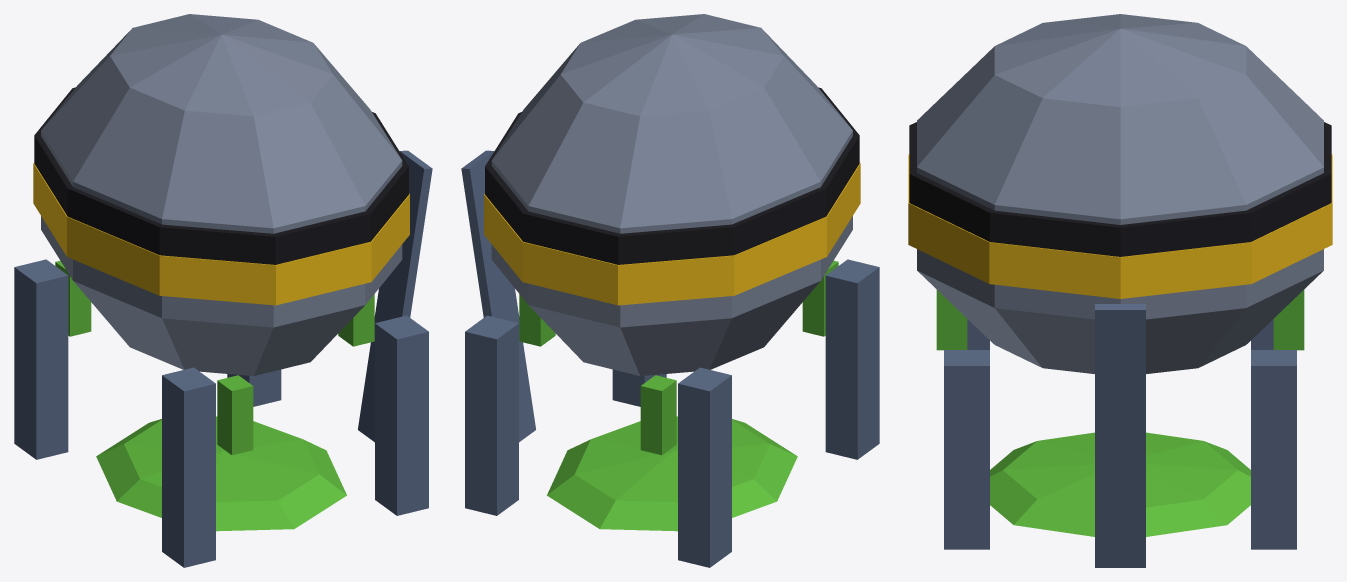
File: env_r11_chemical_tank.glb
The picture shows the model from 3 angles, left to right: view 1: azimuth 30°, elevation 25°; view 2: azimuth 150°, elevation 25°; view 3: azimuth 270°, elevation 25°; orthographic projection. The views are drawn at different scales.
Parts seen in each view (by area): view 1: env_r11_chemical_tank; view 2: env_r11_chemical_tank; view 3: env_r11_chemical_tank.
Boxes of the visible parts, <box> form: env_r11_chemical_tank: <box>14,14,432,567</box>; env_r11_chemical_tank: <box>461,14,879,567</box>; env_r11_chemical_tank: <box>908,14,1332,567</box>.
Size of the model in its own units: 4.6 by 5.5 by 4.6.
Materials: 1 (1 with a texture image).
